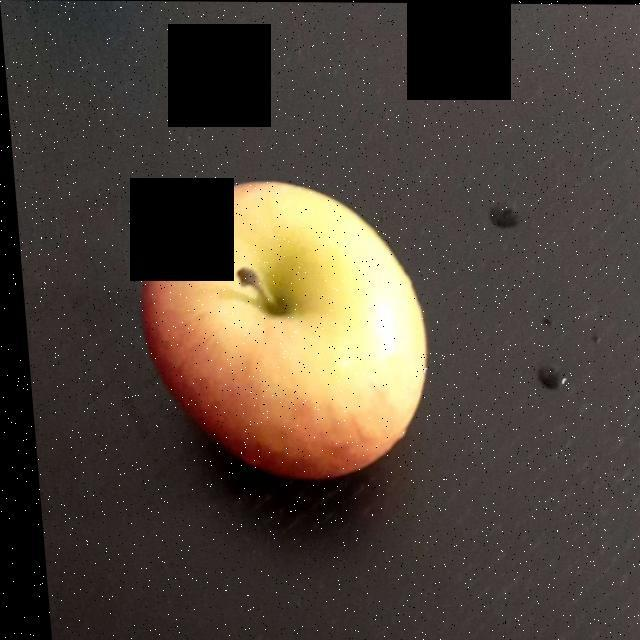apple: (140, 186, 418, 473)
